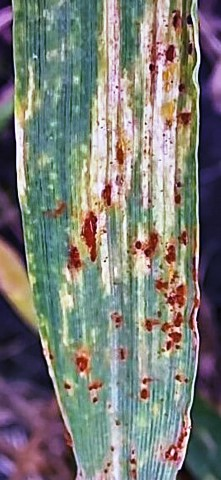Leaf Rust: (32, 117, 218, 477)
